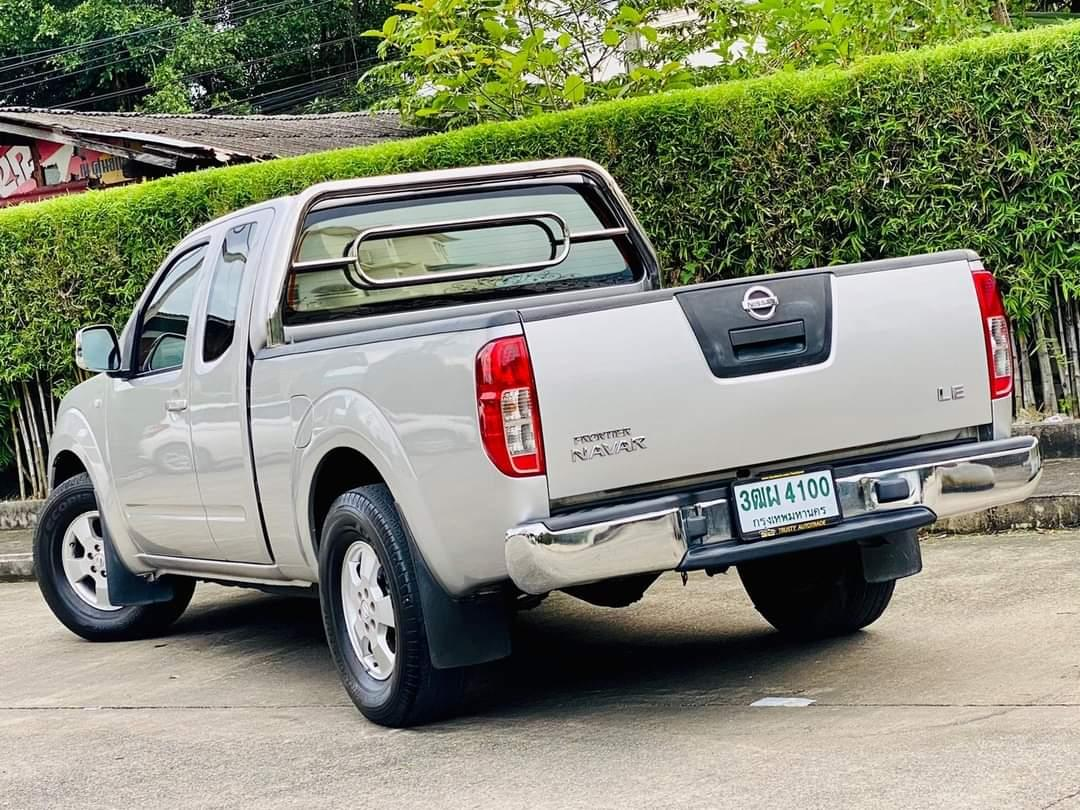license-plate: (720, 463, 849, 547)
